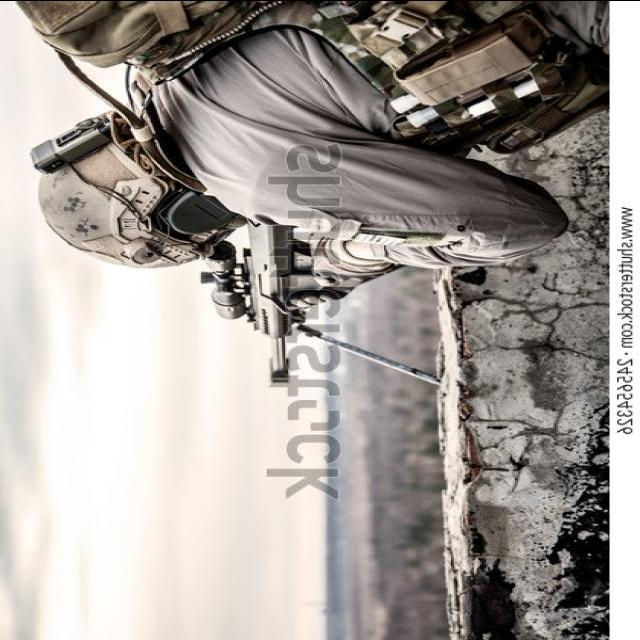scope: (197, 235, 253, 327)
sniper rifle: (195, 216, 448, 401)
